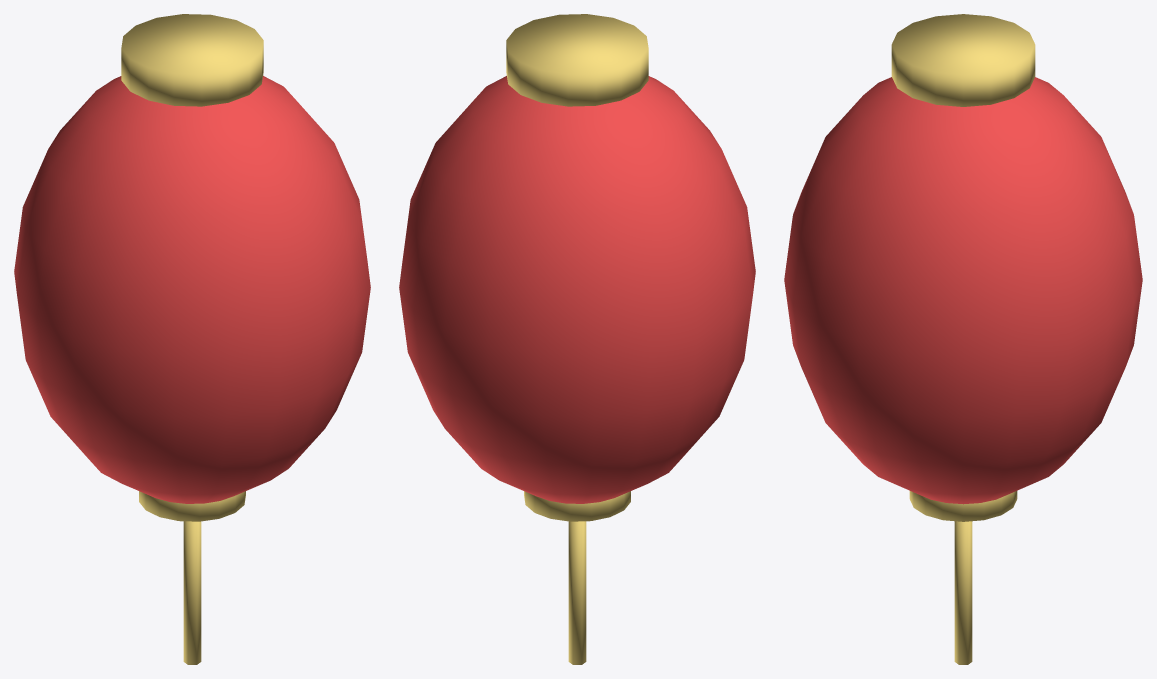
Rendered from lantern.fbx.
The picture shows the model from 3 angles, left to right: view 1: azimuth 30°, elevation 25°; view 2: azimuth 150°, elevation 25°; view 3: azimuth 270°, elevation 25°; orthographic projection.
Parts seen in each view (by area): view 1: lantern; view 2: lantern; view 3: lantern.
Boxes of the visible parts, bbox=[...] form: lantern: bbox=[14, 14, 370, 664]; lantern: bbox=[399, 14, 755, 664]; lantern: bbox=[784, 14, 1142, 664].
Bounding box in the file's own units: 0.4 × 0.76 × 0.4.
